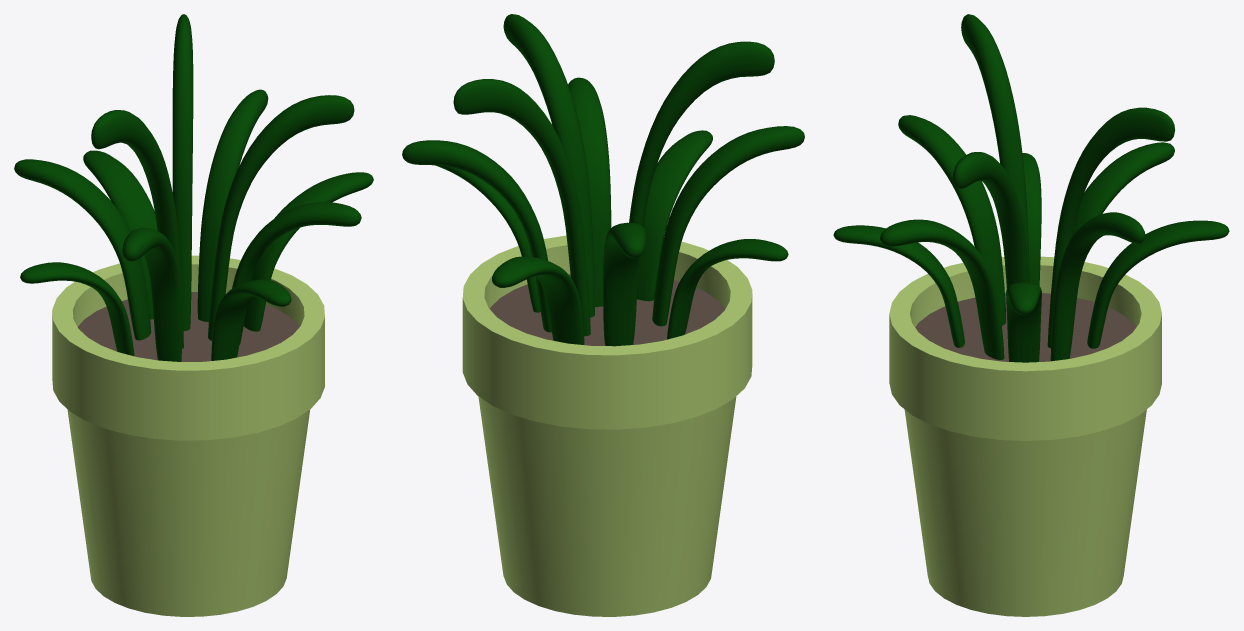
File: Plante1_5.fbx
3 views of the same model, side by side, from view 1: azimuth 30°, elevation 25°; view 2: azimuth 150°, elevation 25°; view 3: azimuth 270°, elevation 25° (orthographic). The views are drawn at different scales.
Visible parts, largest first — view 1: pCylinder732, pCube1946, pCube1949, pCube1943, pCube1948, pCylinder733, pCube1950, pCube1941, pCube1942, pCube1947, pCube1944, pCube1945 (+1 smaller); view 2: pCylinder732, pCube1949, pCube1950, pCube1946, pCube1941, pCylinder733, pCube1943, pCube1945, pCube1947, pCube1948, pCube1942, pCube1940 (+1 smaller); view 3: pCylinder732, pCylinder733, pCube1949, pCube1950, pCube1941, pCube1947, pCube1943, pCube1946, pCube1942, pCube1948, pCube1945, pCube1944 (+1 smaller).
Part boxes in pixels (left/top/right/bottom): pCylinder732: left=52, top=255, right=324, bottom=616; pCube1946: left=208, top=95, right=354, bottom=340; pCube1949: left=172, top=14, right=193, bottom=330; pCube1943: left=197, top=89, right=268, bottom=322; pCube1948: left=14, top=159, right=151, bottom=340; pCylinder733: left=78, top=292, right=299, bottom=361; pCube1950: left=91, top=110, right=183, bottom=348; pCube1941: left=122, top=228, right=181, bottom=361; pCube1942: left=83, top=150, right=157, bottom=319; pCube1947: left=232, top=202, right=361, bottom=344; pCube1944: left=243, top=172, right=373, bottom=331; pCube1945: left=211, top=279, right=291, bottom=360; pCylinder732: left=462, top=235, right=752, bottom=616; pCube1949: left=453, top=79, right=590, bottom=336; pCube1950: left=629, top=41, right=774, bottom=287; pCube1946: left=503, top=14, right=594, bottom=317; pCube1941: left=652, top=126, right=804, bottom=326; pCylinder733: left=490, top=274, right=725, bottom=345; pCube1943: left=402, top=140, right=551, bottom=332; pCube1945: left=636, top=130, right=712, bottom=301; pCube1947: left=568, top=77, right=611, bottom=306; pCube1948: left=603, top=222, right=646, bottom=346; pCube1942: left=492, top=256, right=584, bottom=344; pCube1940: left=667, top=239, right=788, bottom=339; pCylinder732: left=889, top=256, right=1161, bottom=616; pCylinder733: left=915, top=293, right=1135, bottom=361; pCube1949: left=1047, top=107, right=1174, bottom=348; pCube1950: left=961, top=14, right=1029, bottom=282; pCube1941: left=898, top=115, right=1005, bottom=325; pCube1947: left=880, top=219, right=1004, bottom=359; pCube1943: left=1050, top=212, right=1145, bottom=361; pCube1946: left=952, top=152, right=1028, bottom=287; pCube1942: left=1087, top=220, right=1229, bottom=348; pCube1948: left=1073, top=142, right=1174, bottom=235; pCube1945: left=833, top=225, right=964, bottom=347; pCube1944: left=1006, top=282, right=1041, bottom=362.
Size of the model in its own units: 16.65 by 22.94 by 16.27.
